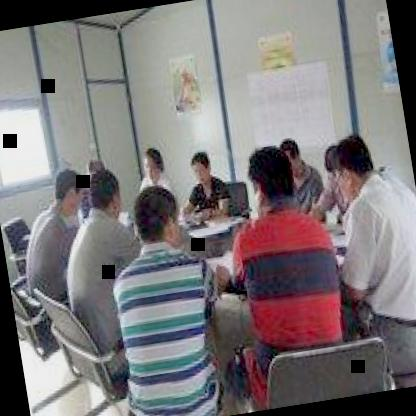head: (236, 140, 304, 230), (124, 177, 190, 256), (330, 127, 386, 209), (85, 167, 129, 228), (52, 160, 90, 219), (182, 145, 218, 185), (139, 138, 170, 184), (275, 134, 307, 178)
